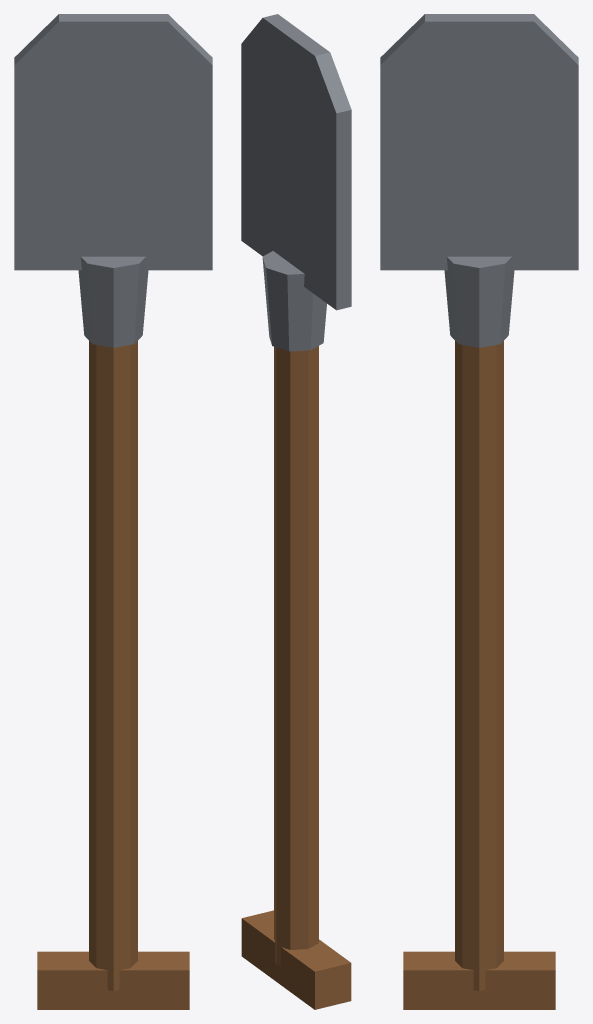
File: tool_spade.obj
The picture shows the model from 3 angles, left to right: view 1: azimuth 90°, elevation 25°; view 2: azimuth 210°, elevation 25°; view 3: azimuth 270°, elevation 25°; orthographic projection. The views are drawn at different scales.
Visible parts, largest first — view 1: tool_spade; view 2: tool_spade; view 3: tool_spade.
Boxes of the visible parts, x1,y1,x2,y2 form: tool_spade: (14, 14, 212, 1009); tool_spade: (241, 14, 351, 1009); tool_spade: (380, 14, 578, 1009).
Size of the model in its own units: 0.048 by 0.7116 by 0.13.
